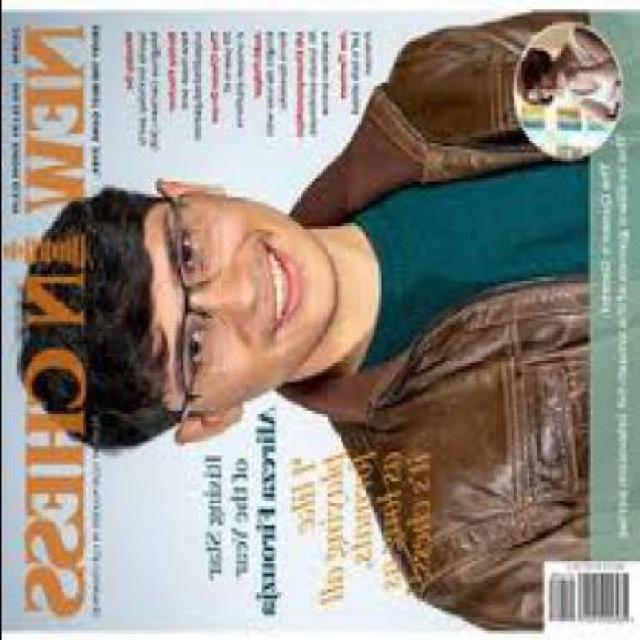PAPER: (1, 9, 638, 629)
